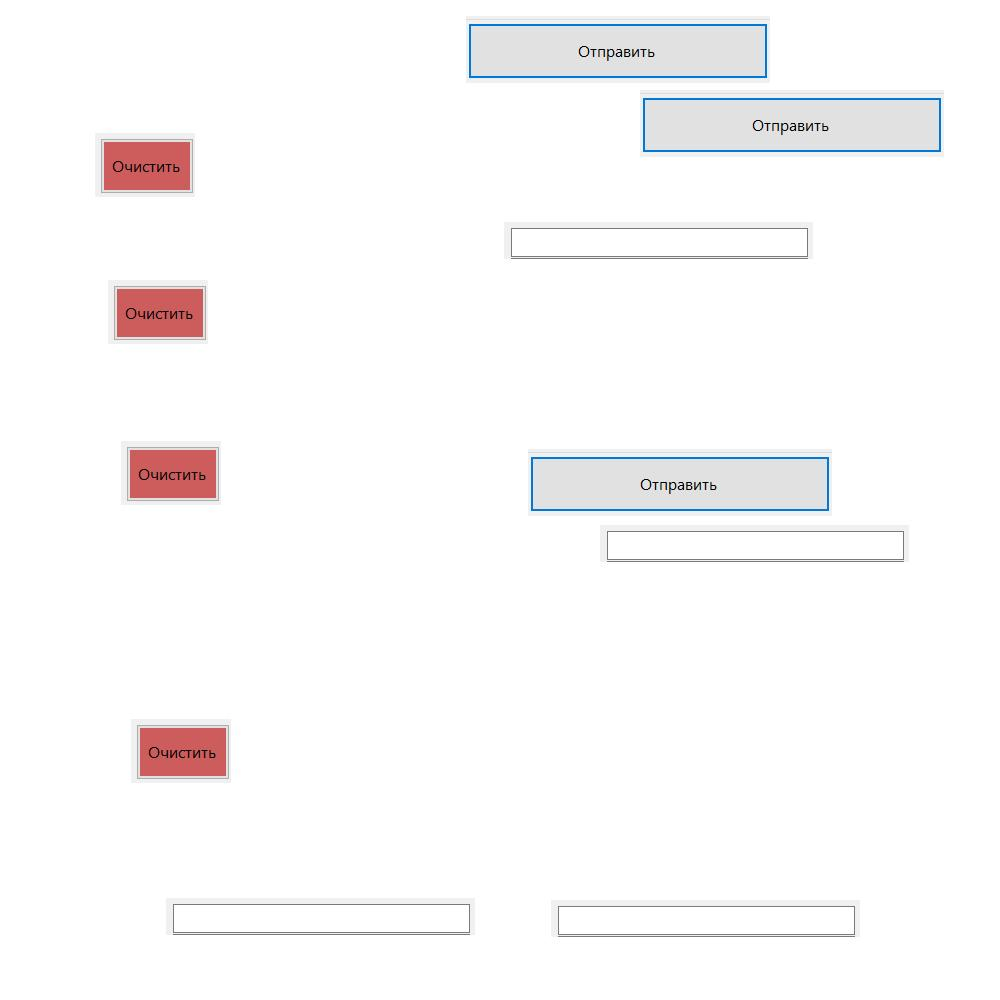Button: (466, 16, 770, 83), (528, 449, 832, 516), (640, 90, 944, 157), (95, 133, 195, 197), (121, 441, 221, 505), (131, 719, 231, 783), (108, 280, 208, 344)
EditText-: (551, 900, 860, 937), (166, 898, 475, 935), (504, 222, 813, 259), (600, 525, 909, 562)
